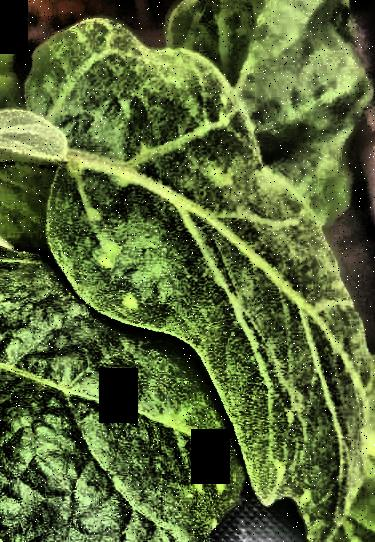HEALTHY: (0, 0, 375, 542)
